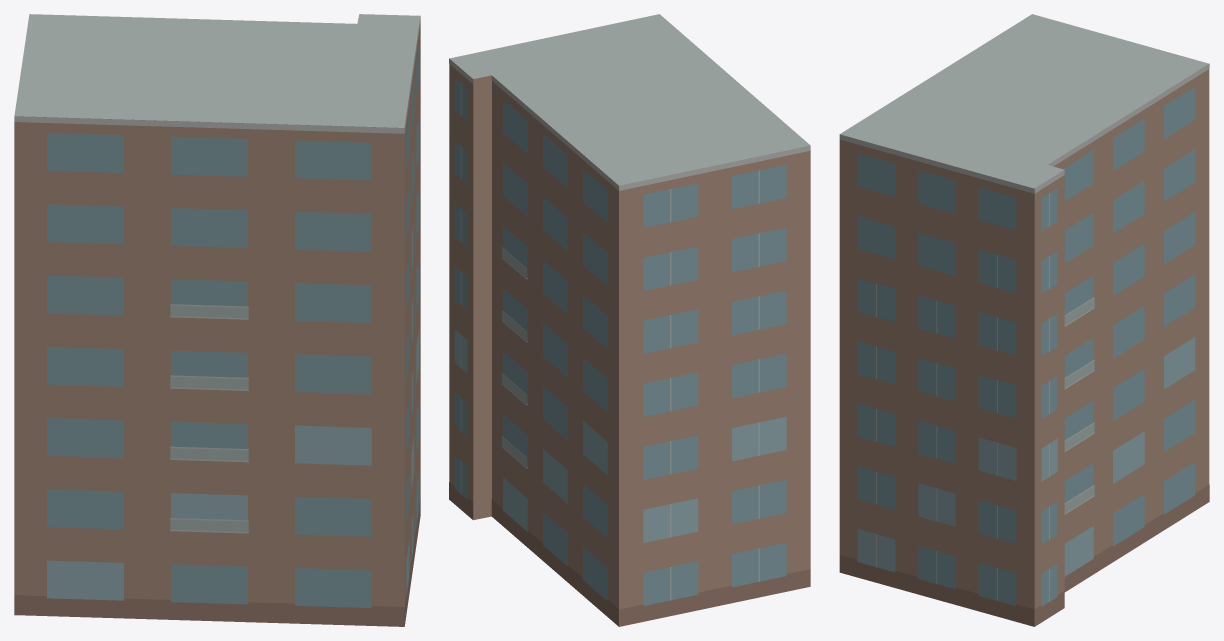
File: survey-upis-32541698.glb
3 views of the same model, side by side, from view 1: azimuth 30°, elevation 25°; view 2: azimuth 150°, elevation 25°; view 3: azimuth 270°, elevation 25° (orthographic). The views are drawn at different scales.
Visible parts, largest first — view 1: survey-upis-32541698.tmp; view 2: survey-upis-32541698.tmp; view 3: survey-upis-32541698.tmp.
Part boxes in pixels (left/top/right/bottom): survey-upis-32541698.tmp: left=14, top=14, right=420, bottom=626; survey-upis-32541698.tmp: left=449, top=14, right=810, bottom=626; survey-upis-32541698.tmp: left=839, top=14, right=1209, bottom=626.
Size of the model in its own units: 17.79 by 20.8 by 15.92.
